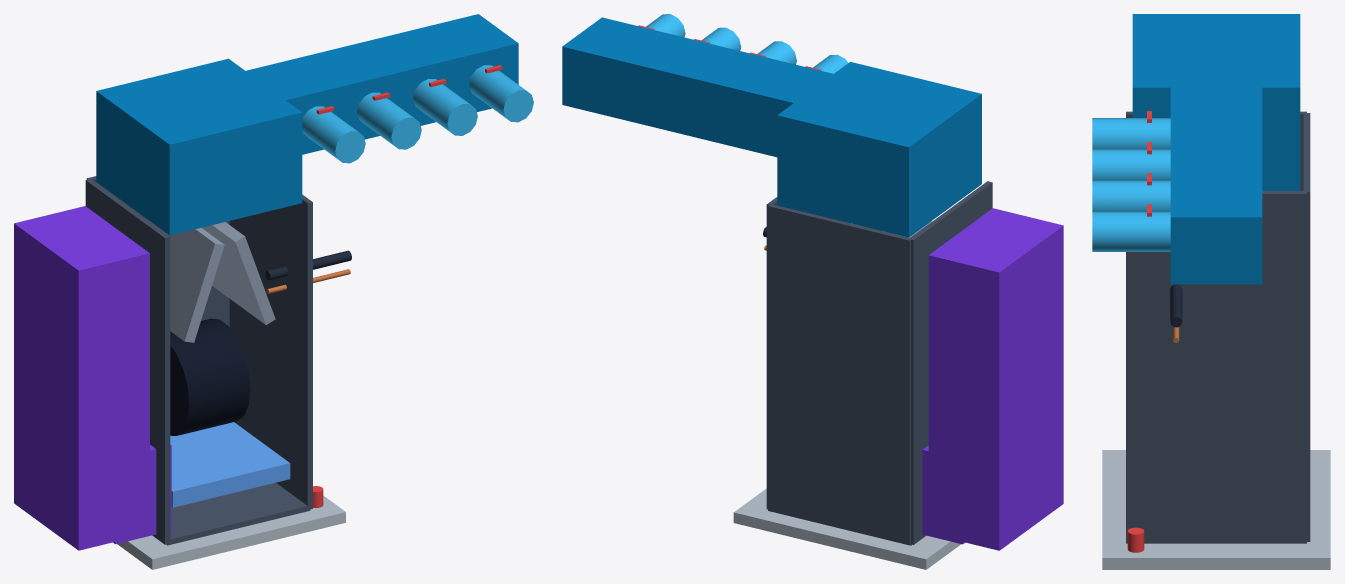
Rendered from assembly-air-handler-open-plenum.glb.
The picture shows the model from 3 angles, left to right: view 1: azimuth 30°, elevation 25°; view 2: azimuth 150°, elevation 25°; view 3: azimuth 270°, elevation 25°; orthographic projection. The views are drawn at different scales.
Parts seen in each view (by area): view 1: hvac-air-handler-cutaway-open-plenum; view 2: hvac-air-handler-cutaway-open-plenum; view 3: hvac-air-handler-cutaway-open-plenum.
Part boxes in pixels (x1,y1,x2,y2): hvac-air-handler-cutaway-open-plenum: [14, 14, 533, 569]; hvac-air-handler-cutaway-open-plenum: [562, 14, 1063, 569]; hvac-air-handler-cutaway-open-plenum: [1092, 14, 1330, 569].
Size of the model in its own units: 1.77 by 1.53 by 0.71.
